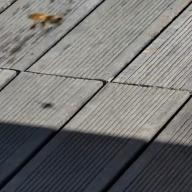Bee: (12, 11, 83, 36)
